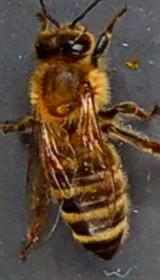varroa_mite: (39, 145, 72, 172)
